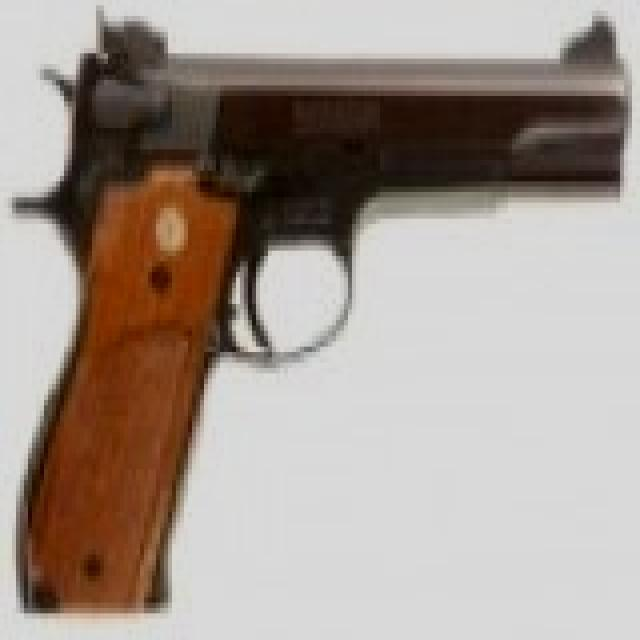pistol: (28, 0, 628, 603)
